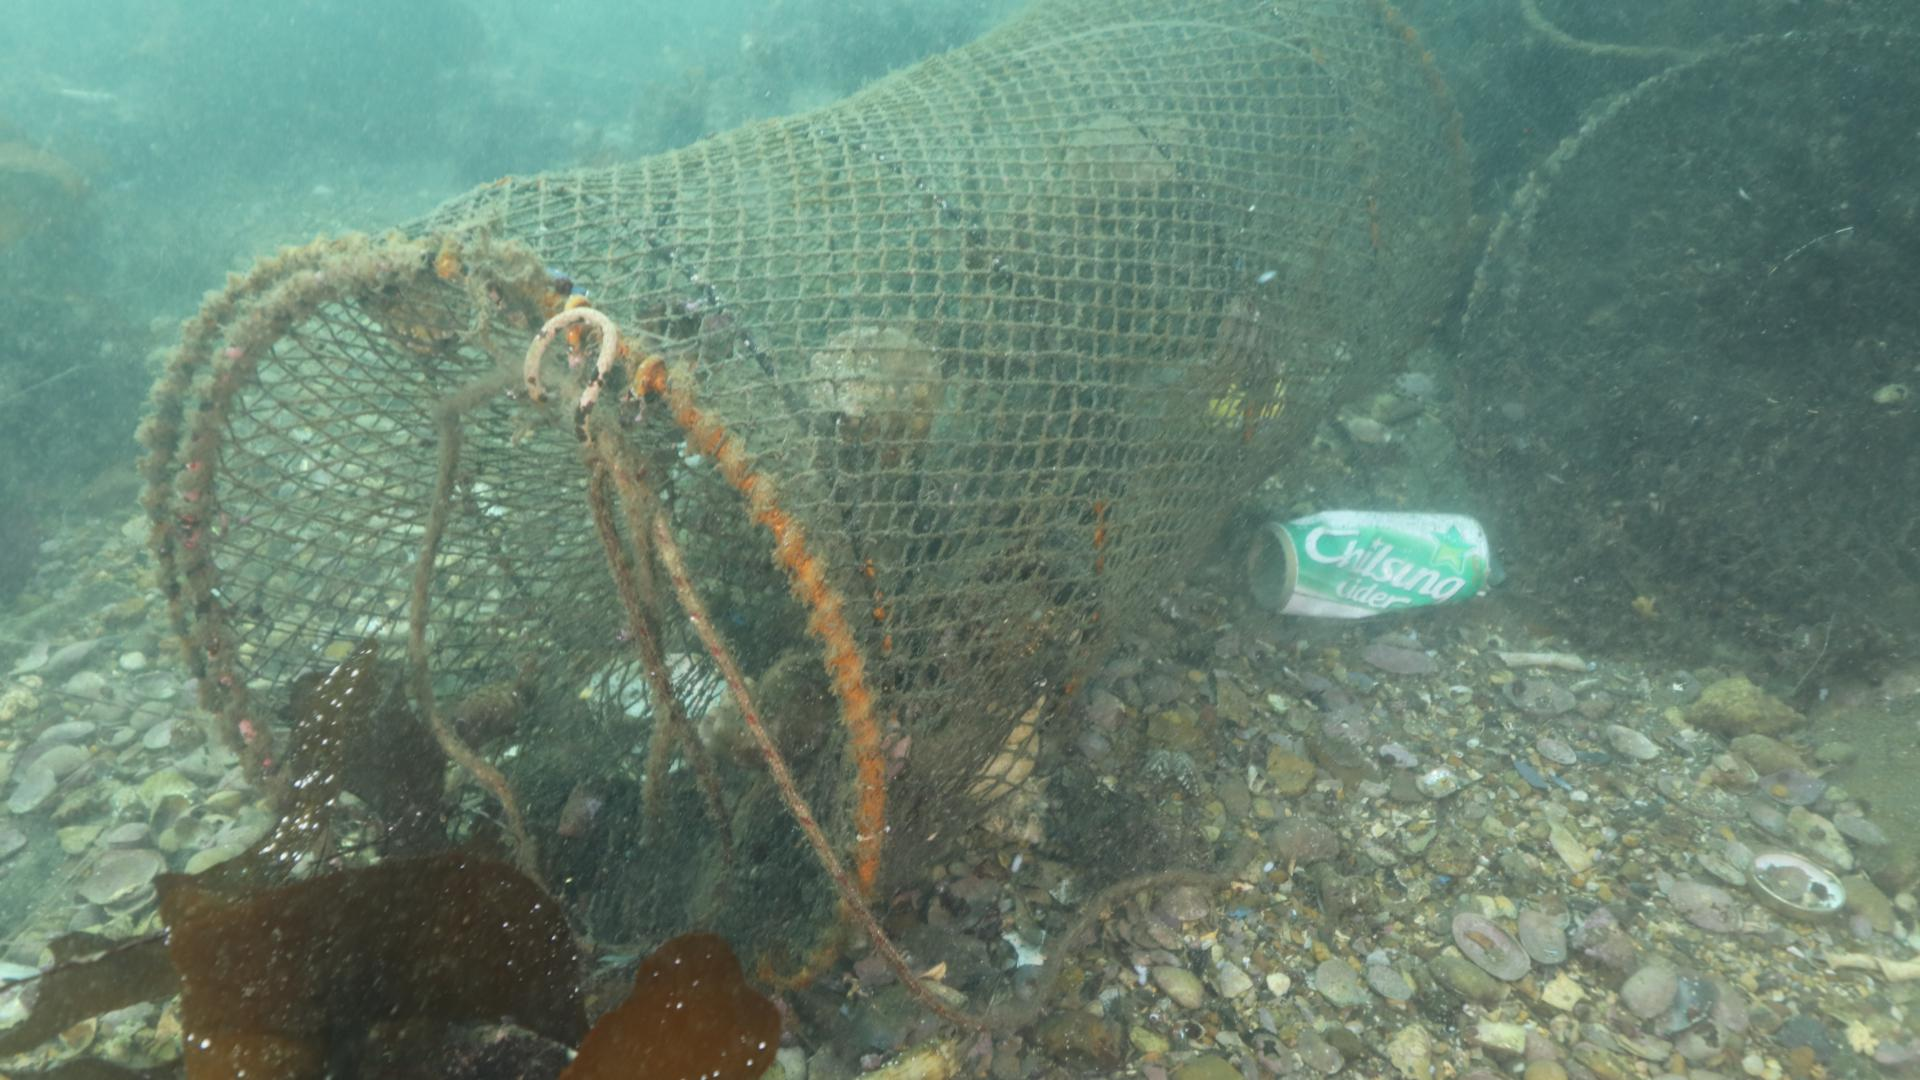rope: (400, 248, 982, 1035)
spring fish trap: (131, 0, 1474, 992)
